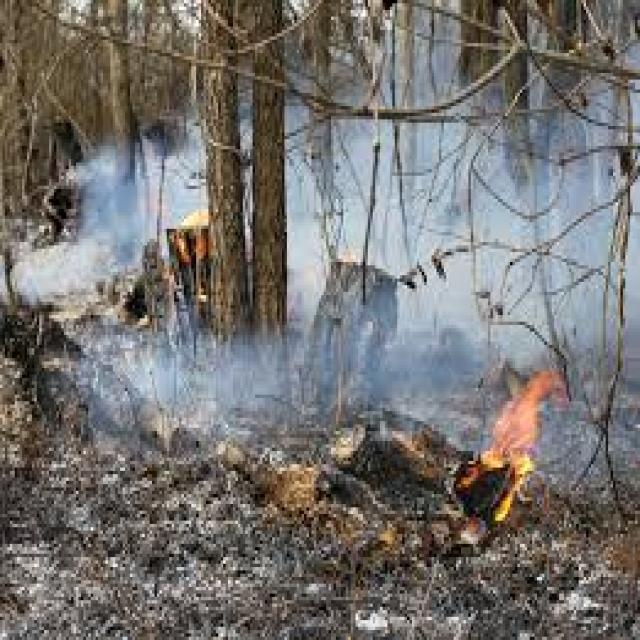Fire: (450, 368, 562, 535)
Smoke: (401, 126, 640, 358), (106, 317, 320, 488), (81, 150, 203, 227)
